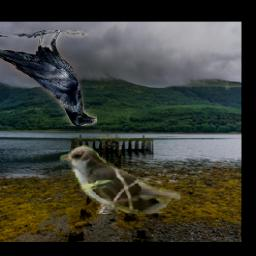Crow: (0, 31, 96, 127)
Cuckoo: (59, 145, 180, 214)
